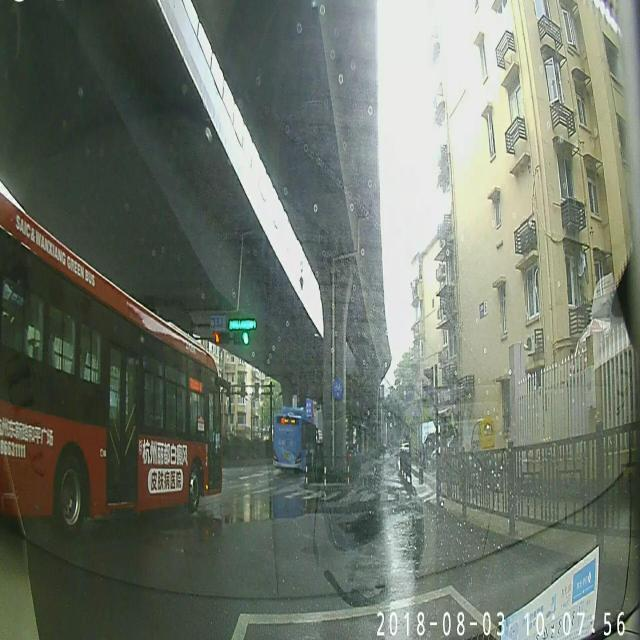car: (273, 409, 320, 475)
